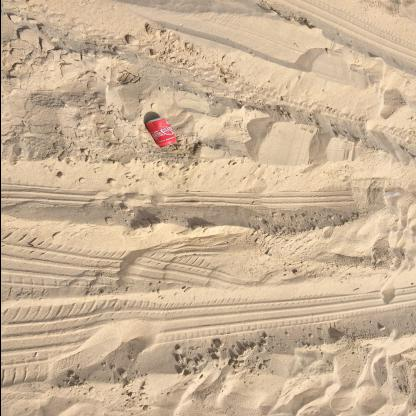metal: (145, 118, 176, 147)
